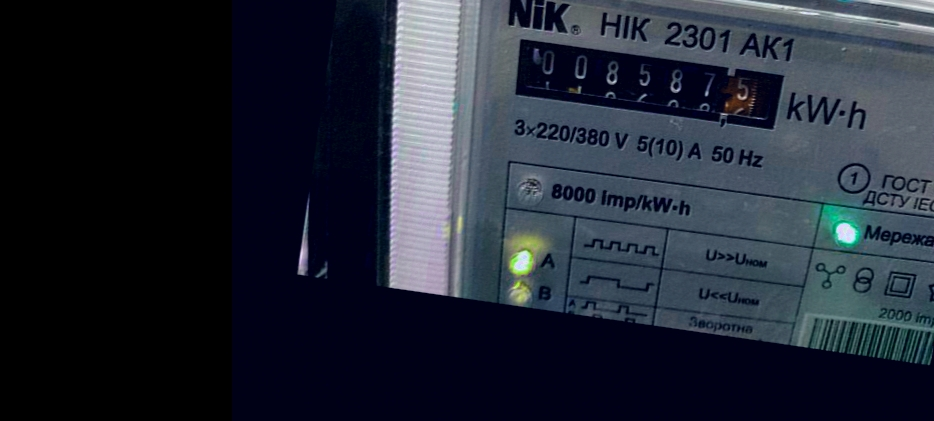0: (538, 46, 559, 77), (572, 52, 593, 82)
5: (734, 74, 755, 105), (636, 60, 656, 90)
7: (699, 68, 720, 100)
8: (667, 64, 688, 97), (604, 57, 623, 87)
screen: (494, 21, 805, 146)
